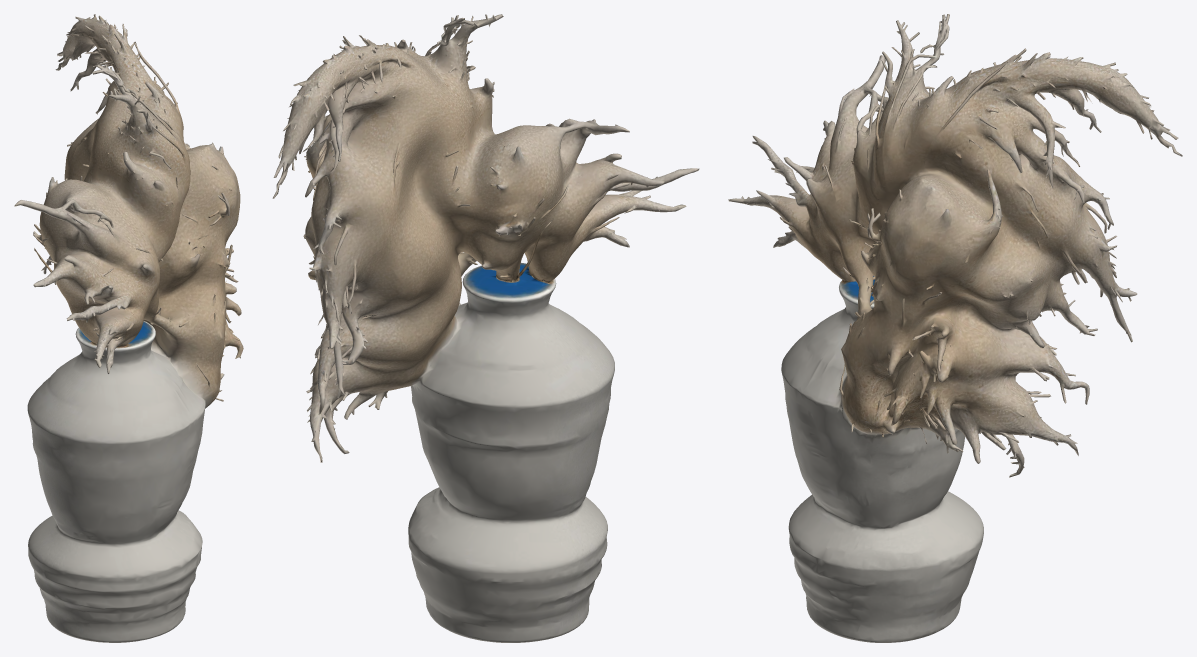
The model's file is decor-vase-ceramic.glb.
3 views of the same model, side by side, from view 1: azimuth 30°, elevation 25°; view 2: azimuth 150°, elevation 25°; view 3: azimuth 270°, elevation 25° (orthographic). The views are drawn at different scales.
Visible parts, largest first — view 1: tripo_node_f8c4e549-fef6-4cb2-9f50-e123819c4680; view 2: tripo_node_f8c4e549-fef6-4cb2-9f50-e123819c4680; view 3: tripo_node_f8c4e549-fef6-4cb2-9f50-e123819c4680.
Boxes of the visible parts, x1,y1,x2,y2 form: tripo_node_f8c4e549-fef6-4cb2-9f50-e123819c4680: (14,14,243,642); tripo_node_f8c4e549-fef6-4cb2-9f50-e123819c4680: (272,14,699,642); tripo_node_f8c4e549-fef6-4cb2-9f50-e123819c4680: (728,14,1182,642).
Bounding box in the file's own units: 0.1755 × 0.35 × 0.2371.
Materials: 1 (1 with a texture image).
